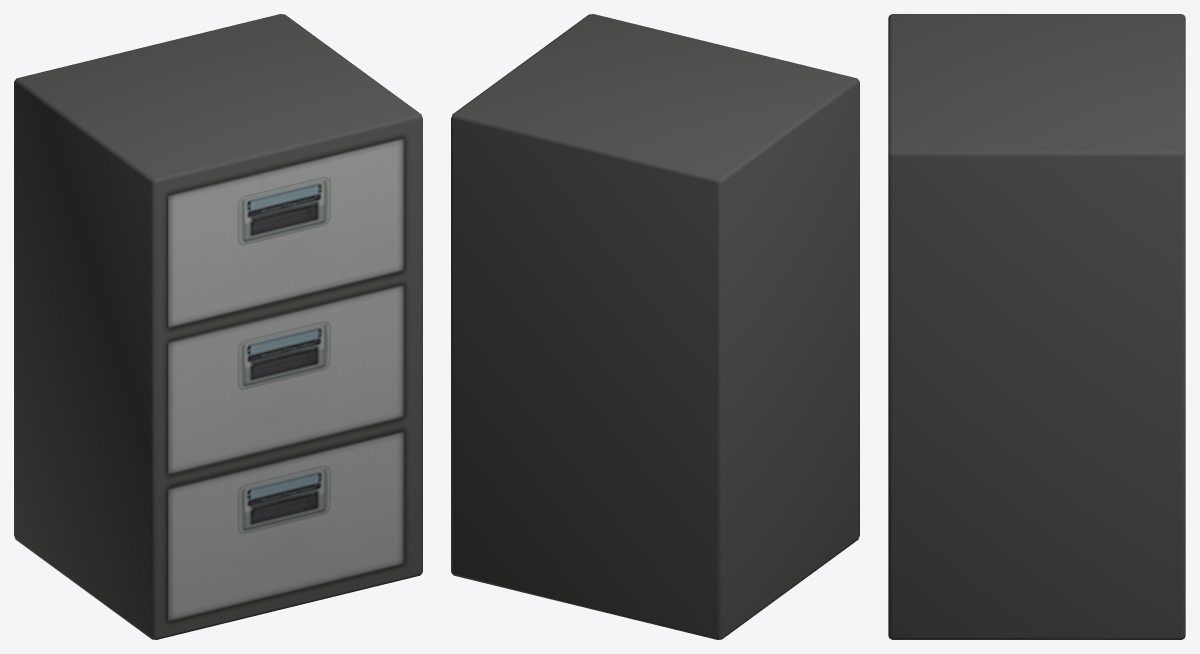
Rendered from locker2.FBX.
3 renders of one model, left to right at view 1: azimuth 30°, elevation 25°; view 2: azimuth 150°, elevation 25°; view 3: azimuth 270°, elevation 25°, orthographic. The views are drawn at different scales.
Parts seen in each view (by area): view 1: locker2; view 2: locker2; view 3: locker2.
Boxes of the visible parts, x1,y1,x2,y2 form: locker2: (14, 14, 422, 639); locker2: (451, 14, 859, 639); locker2: (888, 14, 1185, 639).
Size of the model in its own units: 19.03 by 17.08 by 30.96.
